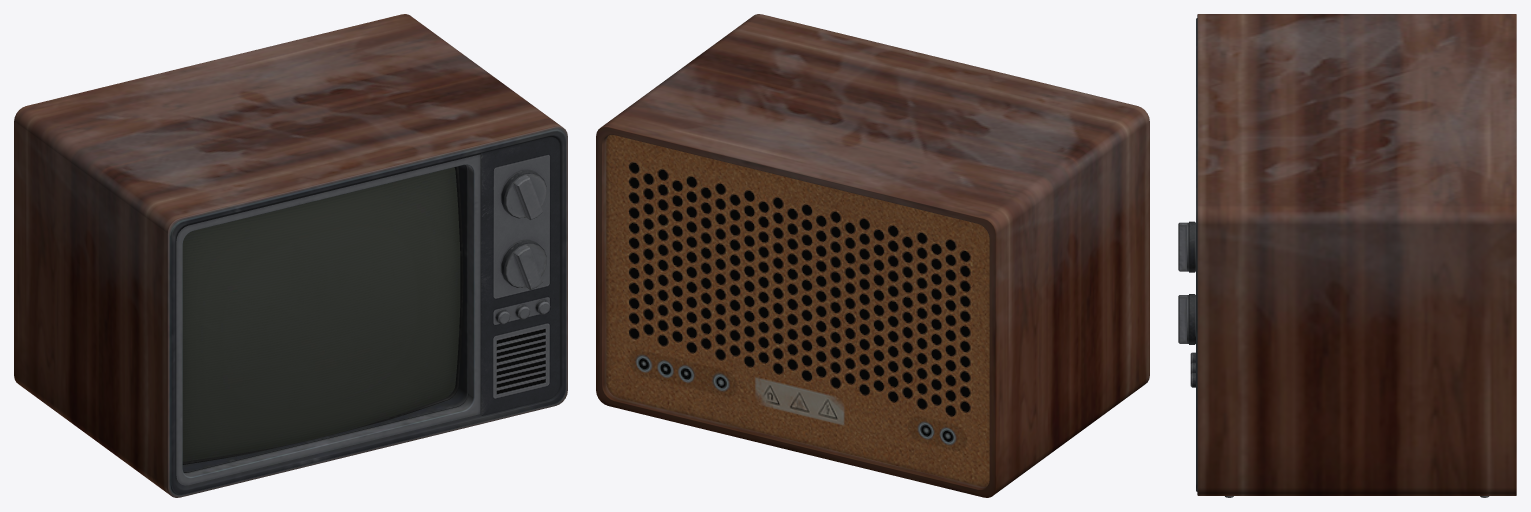
Rendered from old_tv.fbx.
3 views of the same model, side by side, from view 1: azimuth 30°, elevation 25°; view 2: azimuth 150°, elevation 25°; view 3: azimuth 270°, elevation 25° (orthographic). The views are drawn at different scales.
Visible parts, largest first — view 1: Slavic_Tv_Mesh; view 2: Slavic_Tv_Mesh; view 3: Slavic_Tv_Mesh.
Part boxes in pixels (<box>): Slavic_Tv_Mesh: <box>14,14,567,497</box>; Slavic_Tv_Mesh: <box>596,14,1149,497</box>; Slavic_Tv_Mesh: <box>1178,14,1516,497</box>.
Size of the model in its own units: 72 by 49.44 by 50.87.
